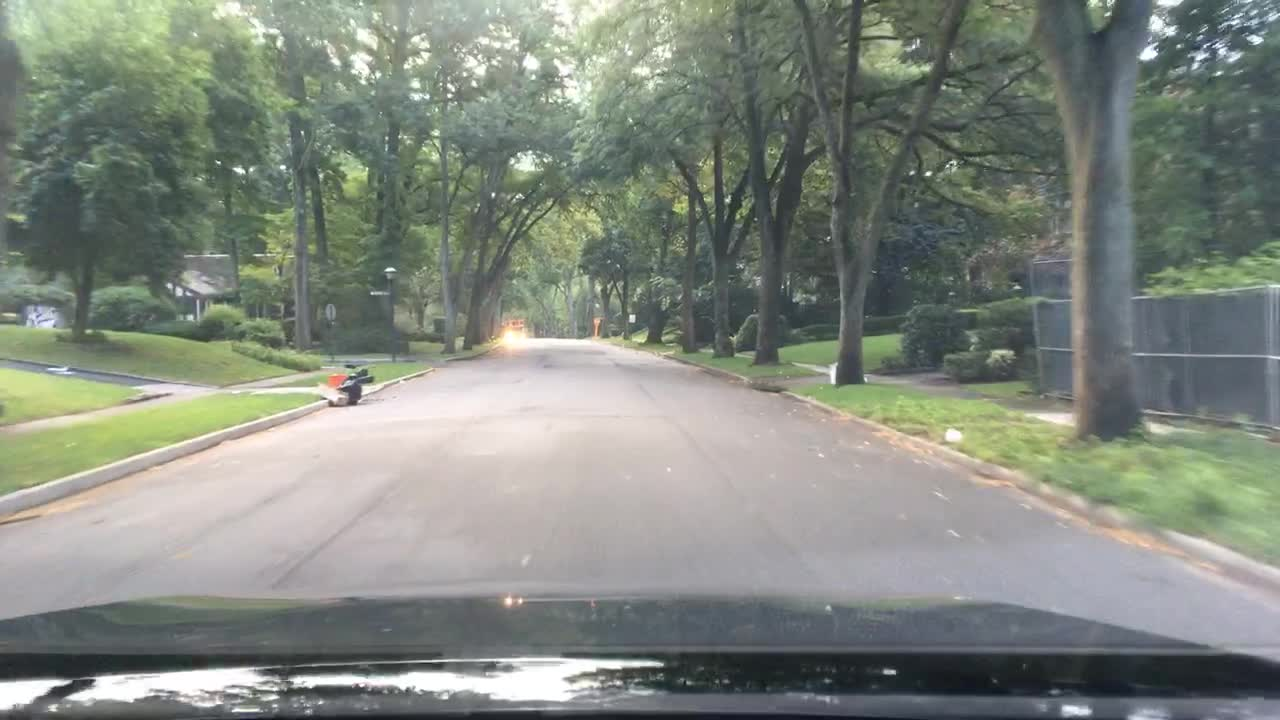car: (502, 319, 525, 338)
traffic sign: (323, 302, 333, 322), (367, 290, 391, 296), (627, 313, 637, 324)
